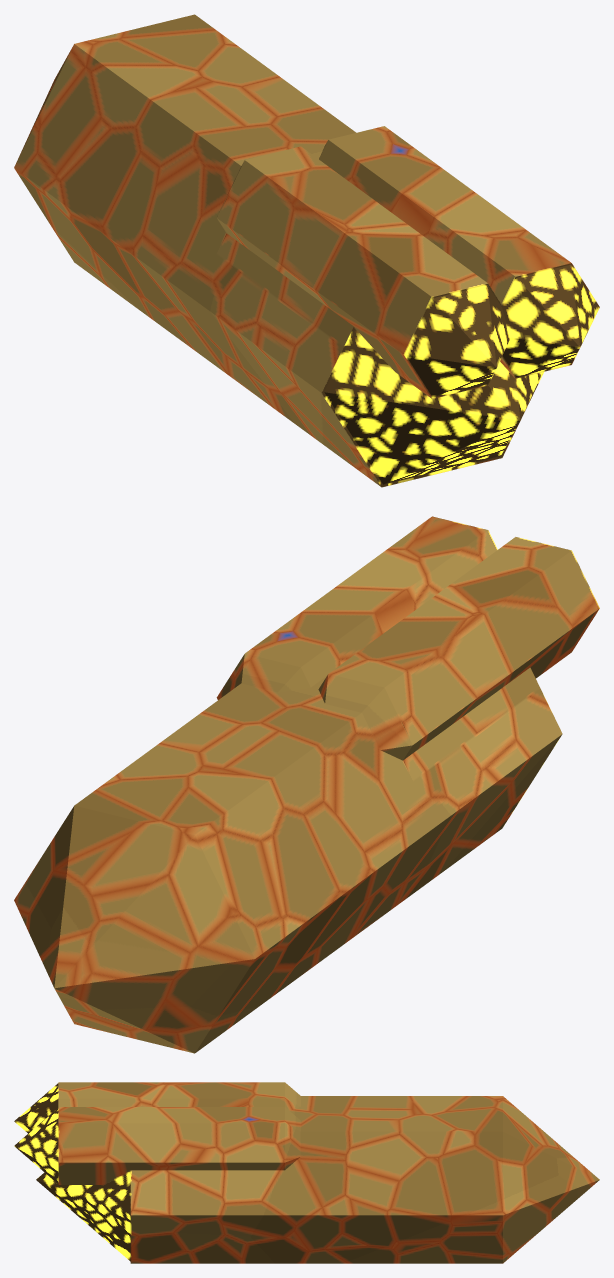
File: vraygon_frigate.glb
The picture shows the model from 3 angles, top to bottom: view 1: azimuth 30°, elevation 25°; view 2: azimuth 150°, elevation 25°; view 3: azimuth 270°, elevation 25°; orthographic projection. The views are drawn at different scales.
Parts seen in each view (by area): view 1: VraygonFrigate; view 2: VraygonFrigate; view 3: VraygonFrigate.
Boxes of the visible parts, x1=… form: VraygonFrigate: x1=14, y1=14, x2=599, y2=487; VraygonFrigate: x1=14, y1=516, x2=599, y2=1053; VraygonFrigate: x1=14, y1=1082, x2=599, y2=1263.
Bounding box in the file's own units: 11.55 × 10.82 × 40.15.
1 material, 1 textured.
